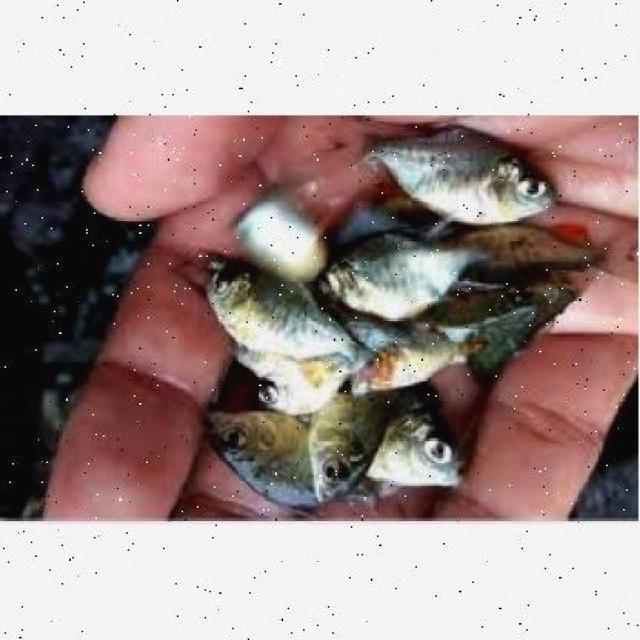ikan-pacu: (364, 122, 564, 222), (204, 251, 358, 371), (324, 224, 479, 314), (220, 412, 362, 508)
